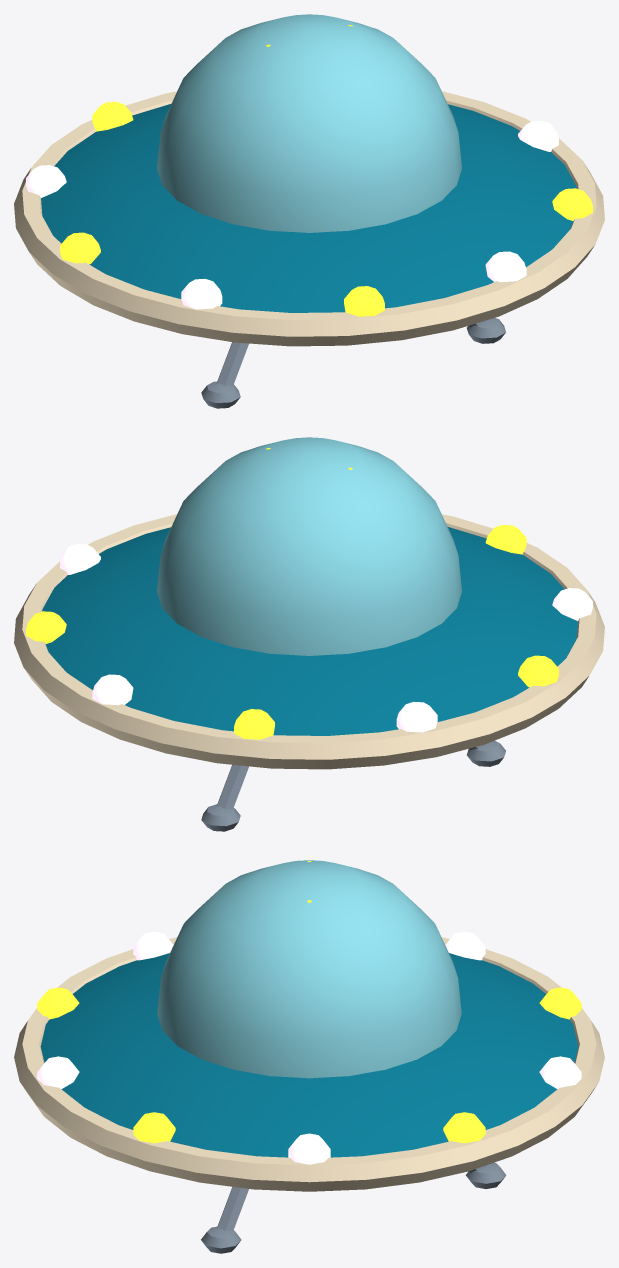
Rendered from Ufo.fbx.
3 views of the same model, one above another, from view 1: azimuth 30°, elevation 25°; view 2: azimuth 150°, elevation 25°; view 3: azimuth 270°, elevation 25° (orthographic).
Parts seen in each view (by area): view 1: Ufo; view 2: Ufo; view 3: Ufo.
Boxes of the visible parts, x1=… form: Ufo: x1=14, y1=14, x2=604, y2=408; Ufo: x1=14, y1=437, x2=604, y2=831; Ufo: x1=14, y1=860, x2=604, y2=1253.
Size of the model in its own units: 3.18 by 1.86 by 3.18.
